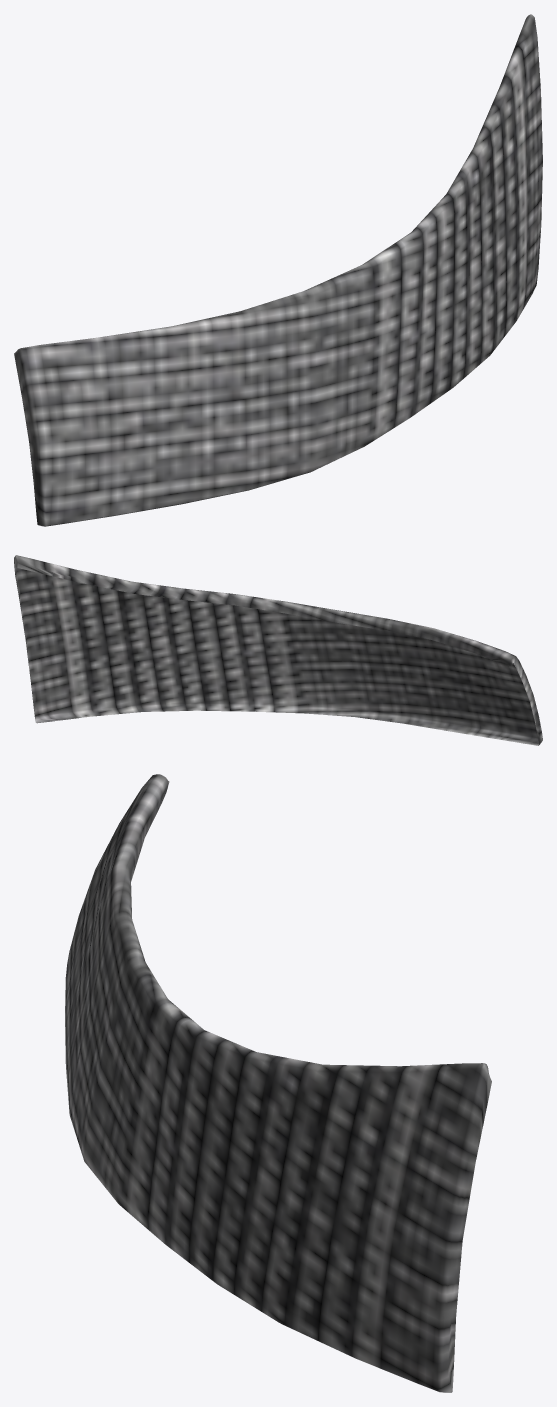
File: upper_halfmoon_pocket.glb
The picture shows the model from 3 angles, top to bottom: view 1: azimuth 30°, elevation 25°; view 2: azimuth 150°, elevation 25°; view 3: azimuth 270°, elevation 25°; orthographic projection. The views are drawn at different scales.
Visible parts, largest first — view 1: upper_halfmoon_pocket; view 2: upper_halfmoon_pocket; view 3: upper_halfmoon_pocket.
Boxes of the visible parts, x1=… form: upper_halfmoon_pocket: x1=14, y1=14, x2=542, y2=526; upper_halfmoon_pocket: x1=14, y1=555, x2=542, y2=745; upper_halfmoon_pocket: x1=65, y1=774, x2=491, y2=1392.
Bounding box in the file's own units: 0.0127 × 0.0049 × 0.00551.
1 material, 1 textured.
